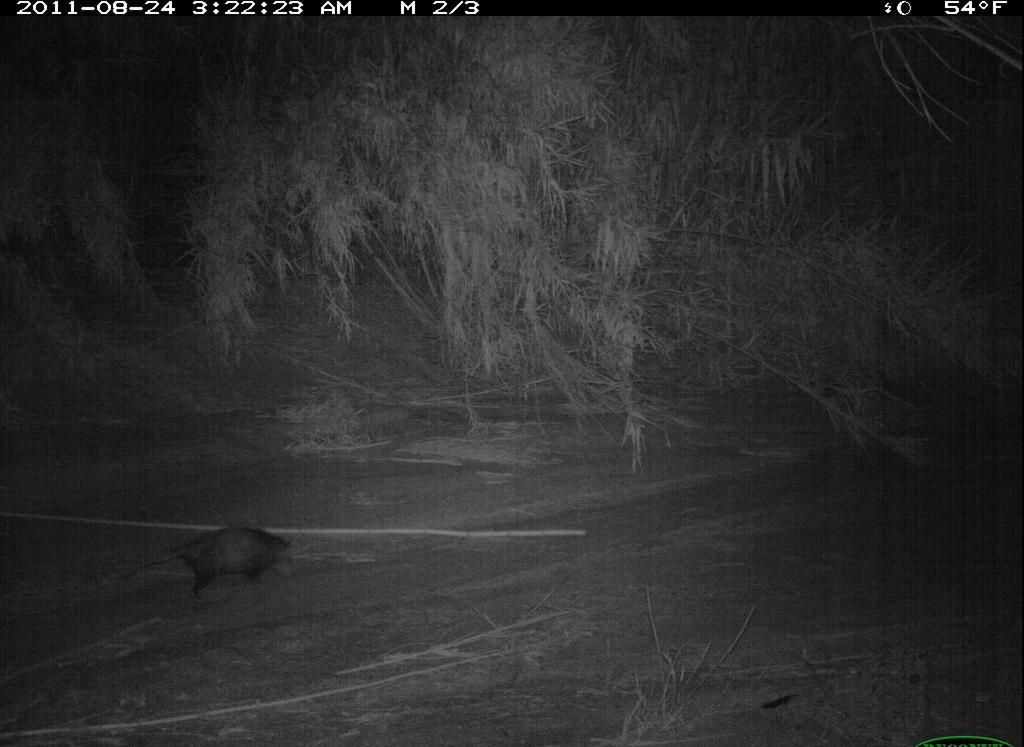opossum: (98, 520, 309, 614)
